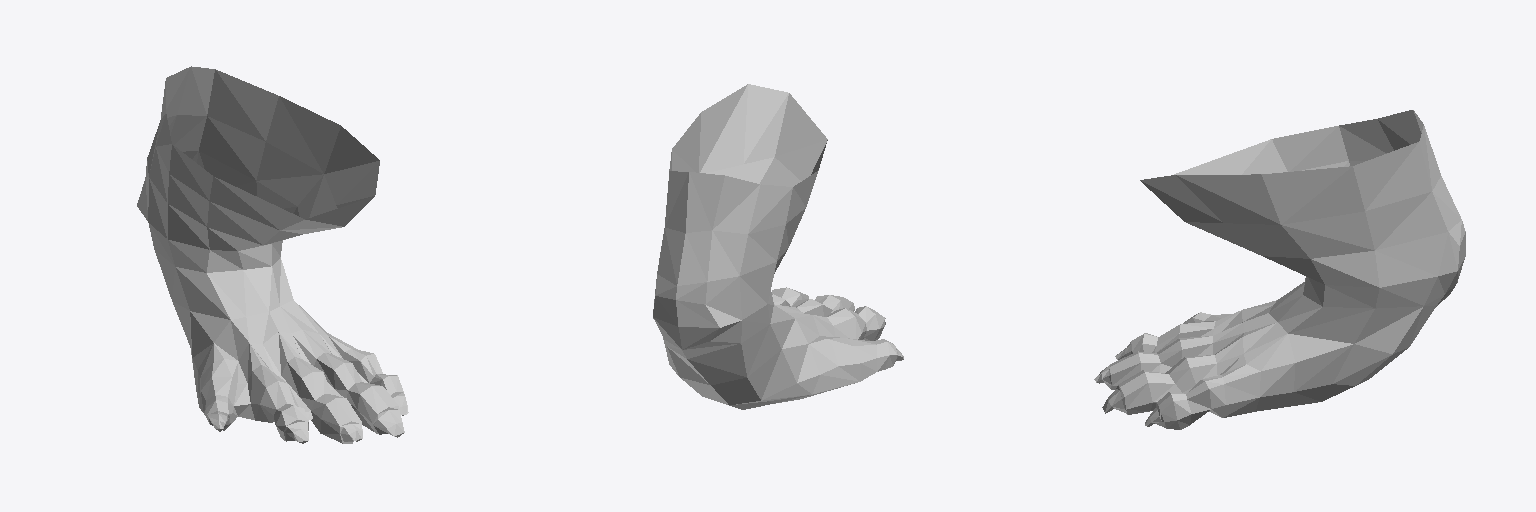
Rendered from nutriapatatraseraizquierda.obj.
The picture shows the model from 3 angles: view 1: azimuth 30°, elevation 25°; view 2: azimuth 150°, elevation 25°; view 3: azimuth 270°, elevation 25°; orthographic projection.
Visible parts, largest first — view 1: body_Mat.1_0.004_Mat.1; view 2: body_Mat.1_0.004_Mat.1; view 3: body_Mat.1_0.004_Mat.1.
Part boxes in pixels (x1,y1,x2,y2): body_Mat.1_0.004_Mat.1: (137,66,408,443); body_Mat.1_0.004_Mat.1: (653,84,903,409); body_Mat.1_0.004_Mat.1: (1094,110,1465,429).
Size of the model in its own units: 12.2 by 17.64 by 21.97.